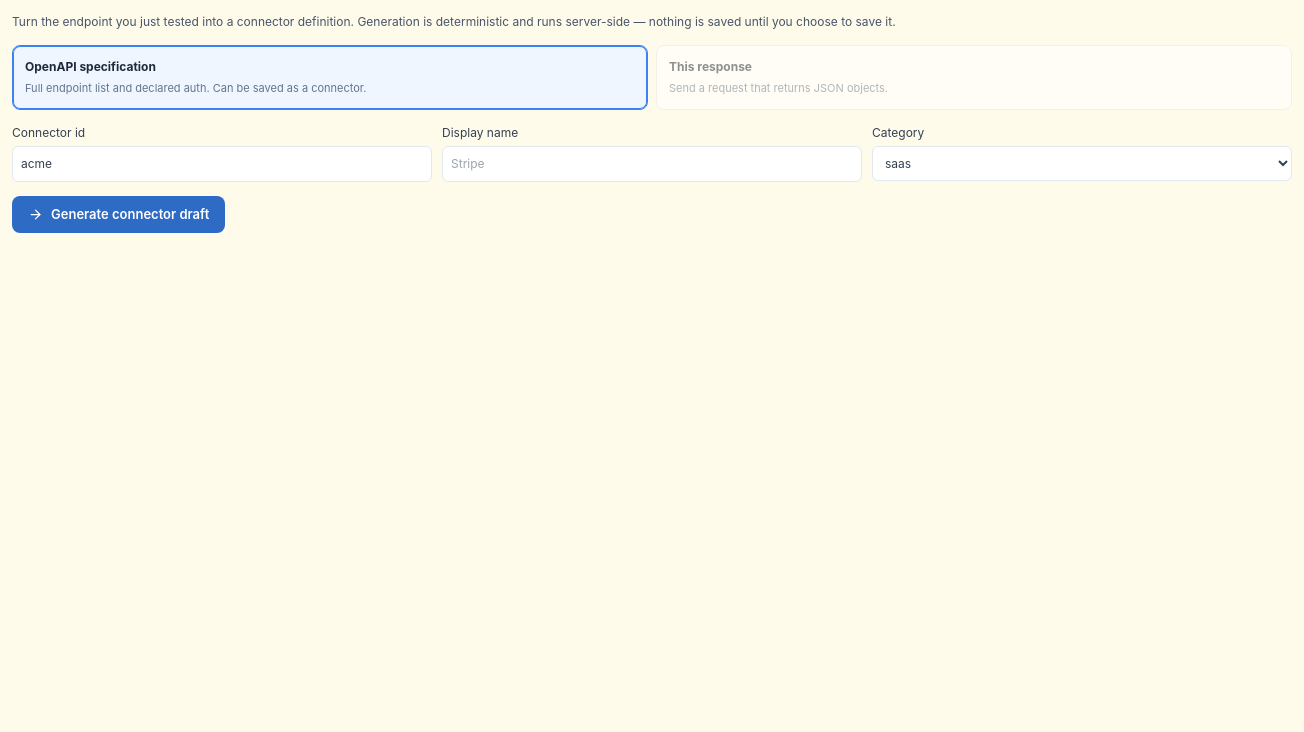
Test case: connector draft step › generates from the OpenAPI spec and allows saving the runtime definition
The width and height of the screenshot is (1304, 732).
Expected: the field labelled "Connector id" holds "acme", [12,146,432,182]
Click the button "Generate connector draft".
click(119, 214)  # box [12,196,225,233]
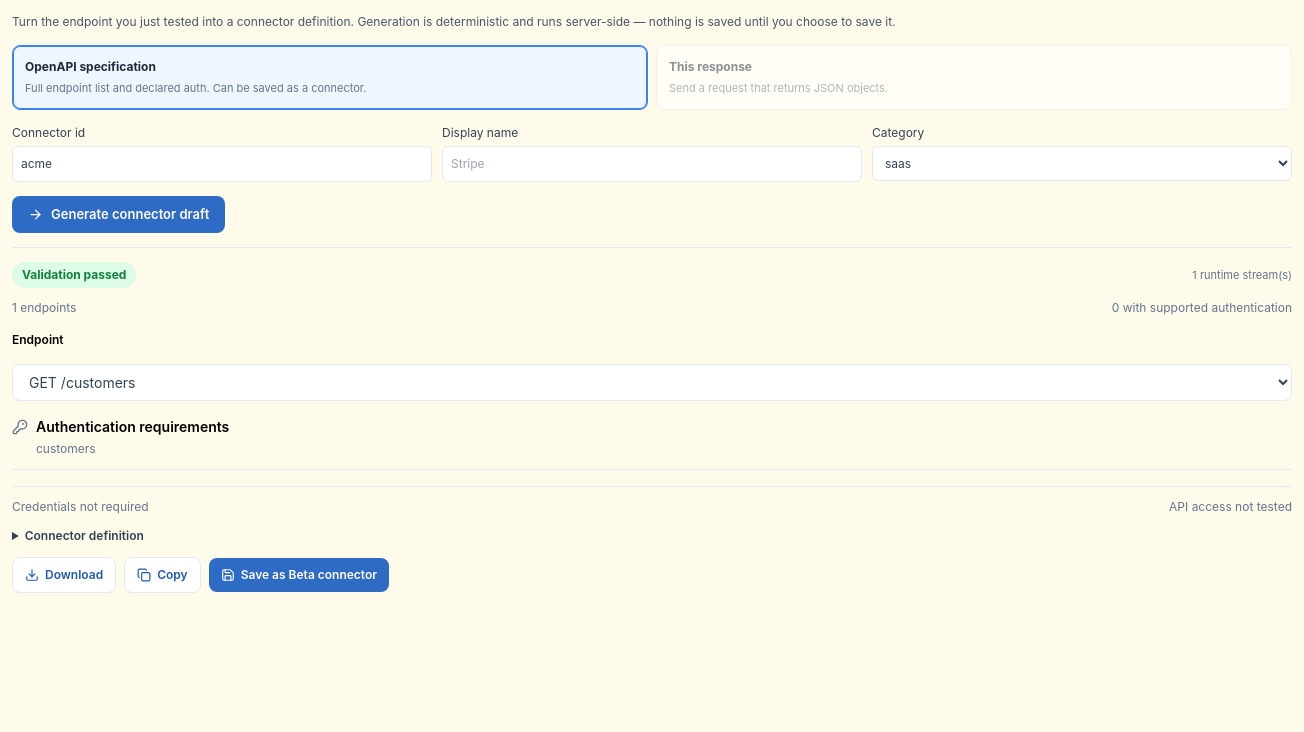
Result: the text "Validation passed" is shown at [12,262,136,288]
Click the button "Save as Beta connector".
click(299, 575)  # box [209,558,389,592]
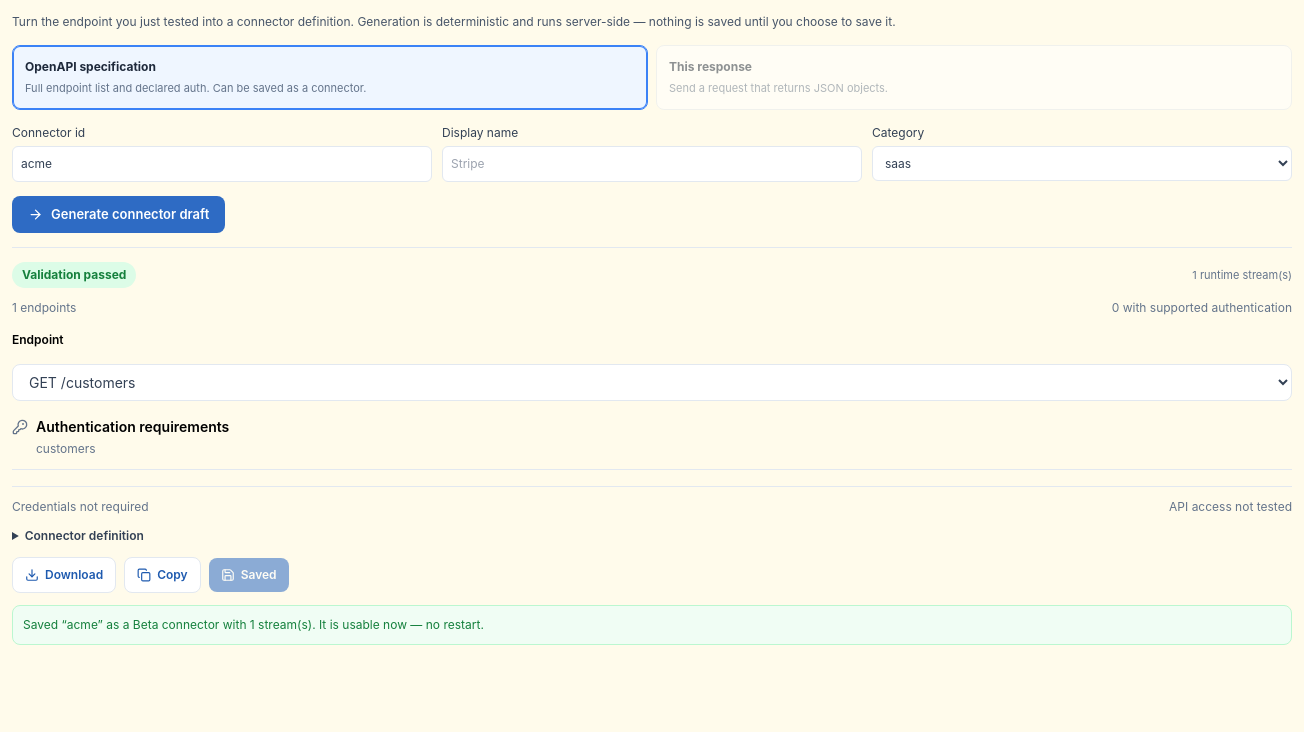
Result: the message shows "Saved" at [23,617,484,632]
